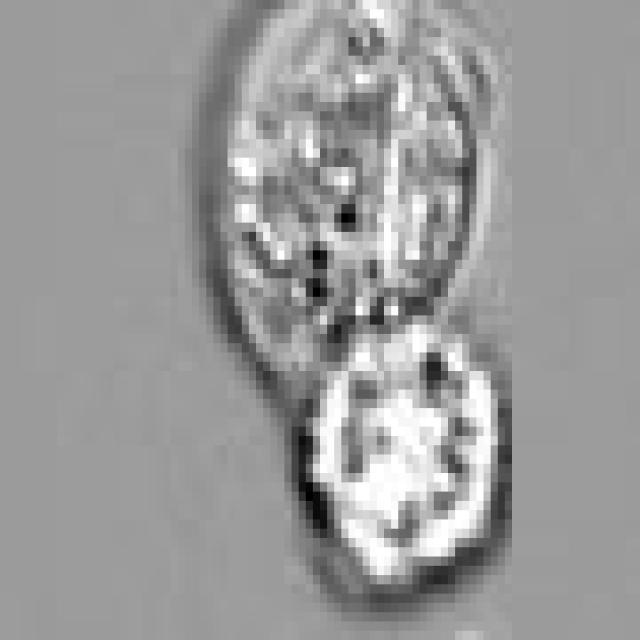Cancer Cell: (220, 9, 490, 390)
WBC: (313, 316, 512, 584)
